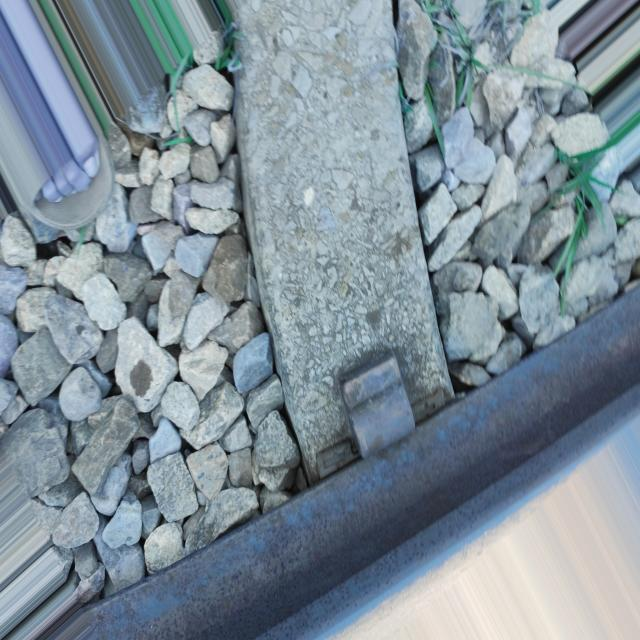Missing Fastener: (325, 344, 431, 484)
